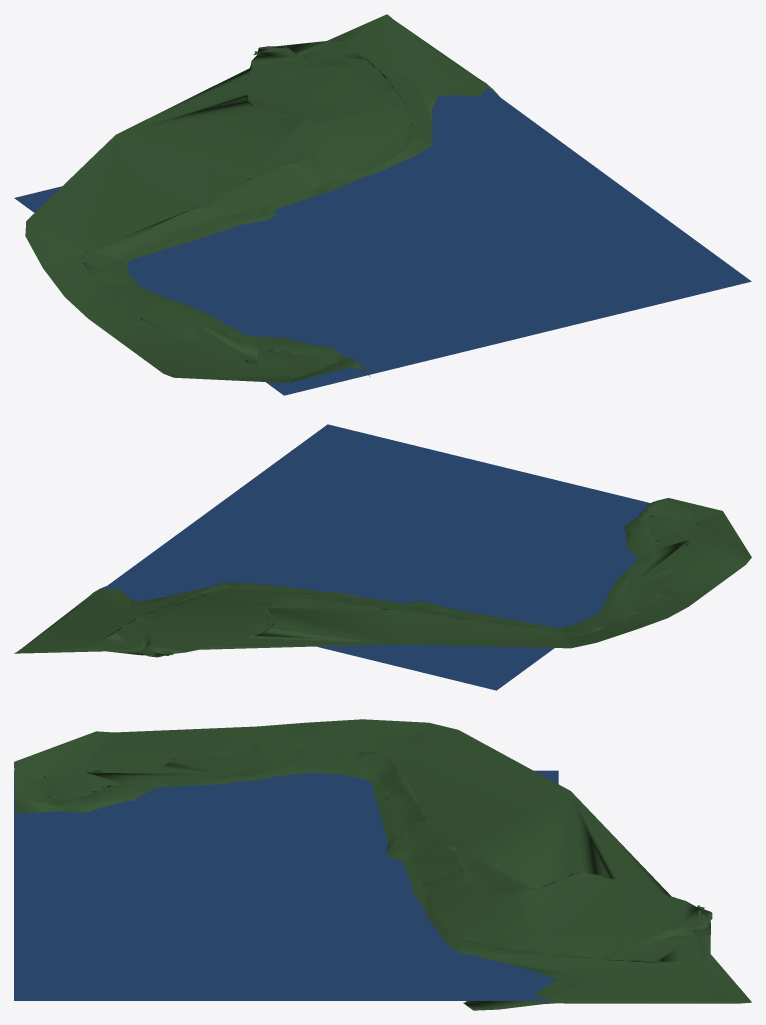
The model's file is monaco_red.dae.
3 views of the same model, one above another, from view 1: azimuth 30°, elevation 25°; view 2: azimuth 150°, elevation 25°; view 3: azimuth 270°, elevation 25° (orthographic). The views are drawn at different scales.
Visible parts, largest first — view 1: agua, tierra; view 2: agua, tierra; view 3: agua, tierra.
Boxes of the visible parts, x1,y1,x2,y2 form: agua: (14,87,751,395); tierra: (25,14,499,382); agua: (101,424,650,690); tierra: (14,498,751,657); agua: (14,770,558,1000); tierra: (14,719,751,1010).
Bounding box in the file's own units: 1287 × 1491 × 92.72.
